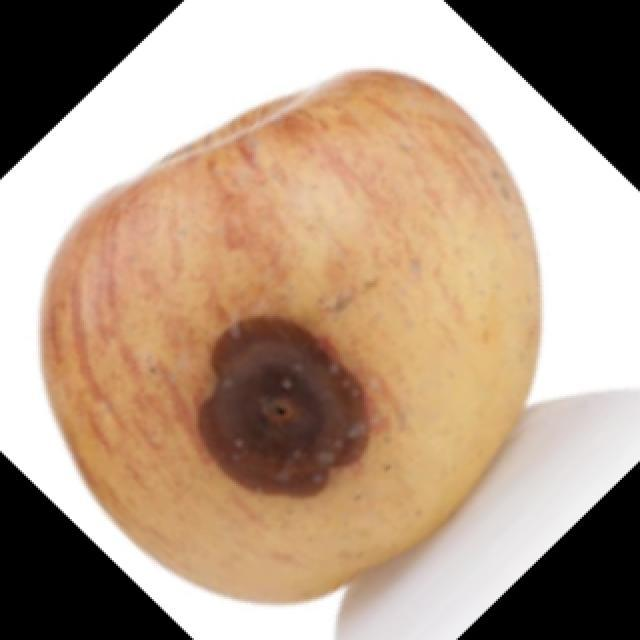Rotten: (47, 63, 520, 575)
